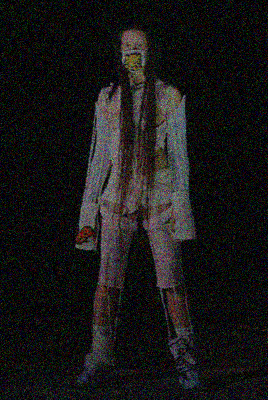with_mask: (120, 38, 149, 73)
